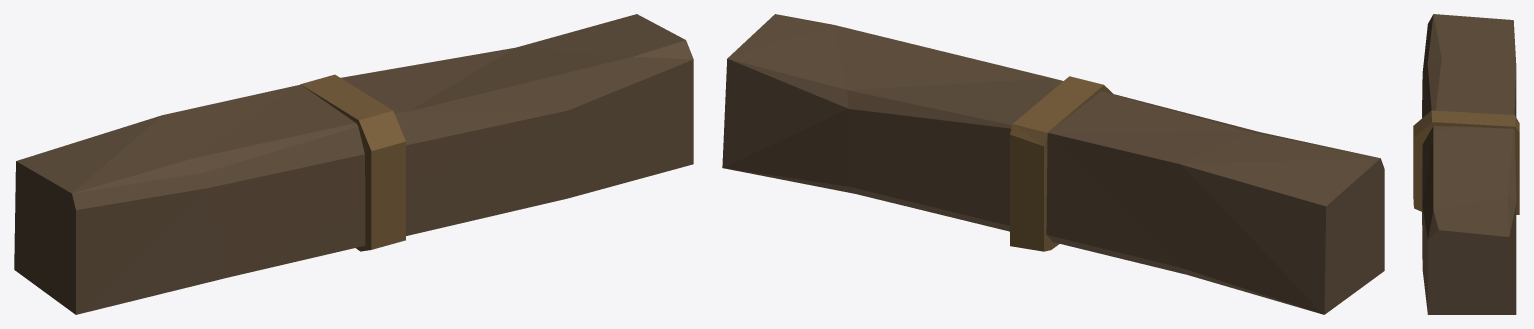
3 renders of one model, left to right at view 1: azimuth 30°, elevation 25°; view 2: azimuth 150°, elevation 25°; view 3: azimuth 270°, elevation 25°, orthographic. The views are drawn at different scales.
Parts seen in each view (by area): view 1: Cube.009; view 2: Cube.009; view 3: Cube.009.
Part boxes in pixels (bbox=[...]): Cube.009: bbox=[14, 14, 693, 314]; Cube.009: bbox=[722, 14, 1384, 314]; Cube.009: bbox=[1413, 14, 1519, 314].
Bounding box in the file's own units: 4.29 × 0.8676 × 0.8927.
1 material, 1 textured.
